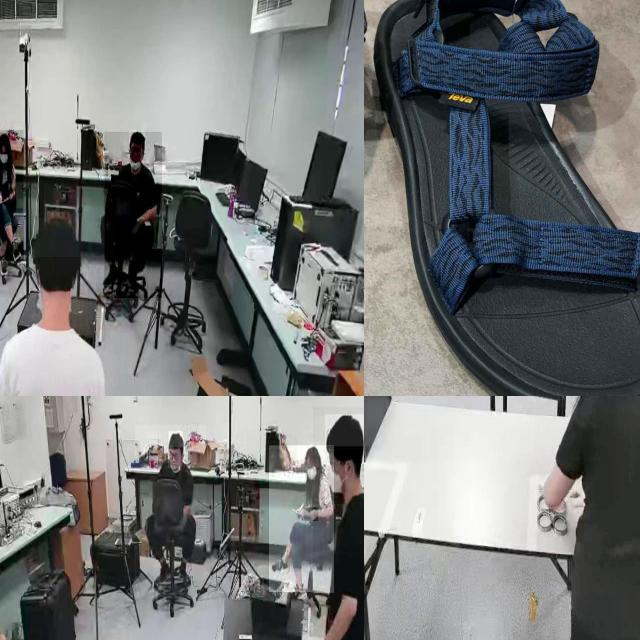Sandals: (364, 0, 640, 396)
face_mask: (327, 451, 345, 504), (305, 456, 317, 484), (0, 143, 11, 170)
face_nomask: (168, 449, 182, 469), (130, 141, 142, 163)
hand_glove: (306, 630, 329, 640)
hand_noglove: (303, 508, 319, 522), (8, 190, 15, 204), (0, 191, 2, 204)
head_nohelmet: (32, 218, 80, 257), (325, 414, 364, 447), (168, 431, 184, 448), (304, 445, 320, 457), (129, 131, 145, 142), (0, 132, 10, 144)
person: (539, 396, 640, 640), (0, 220, 114, 396), (134, 425, 207, 599), (313, 407, 364, 640), (104, 132, 162, 299), (269, 445, 334, 593), (0, 130, 24, 260)
shoes: (270, 550, 291, 580), (175, 558, 191, 586)
